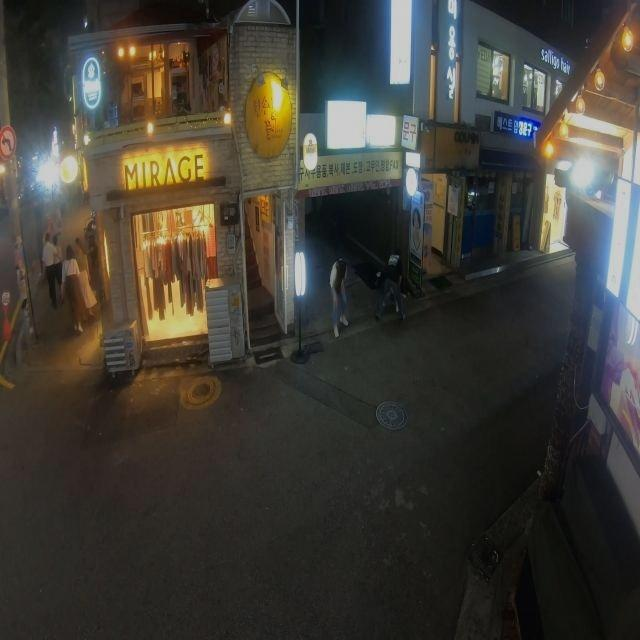non-fight: (327, 256, 354, 335), (377, 254, 409, 320)
